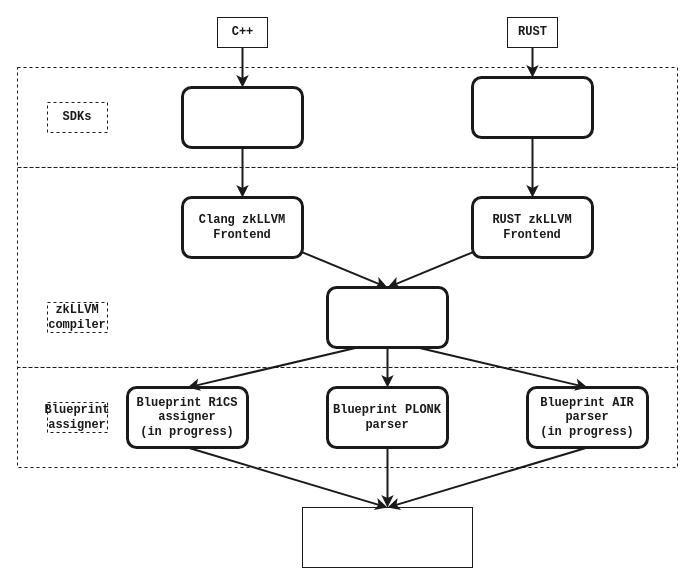
This 695x585 diagram has some shape labels left out. Each missing label, with the centre of its shape:
C++ SDK: the point at 242,117
Placeholder proof system: the point at 387,537
RUST SDK (in progress): the point at 532,107
zkLLVM IR: the point at 387,317
